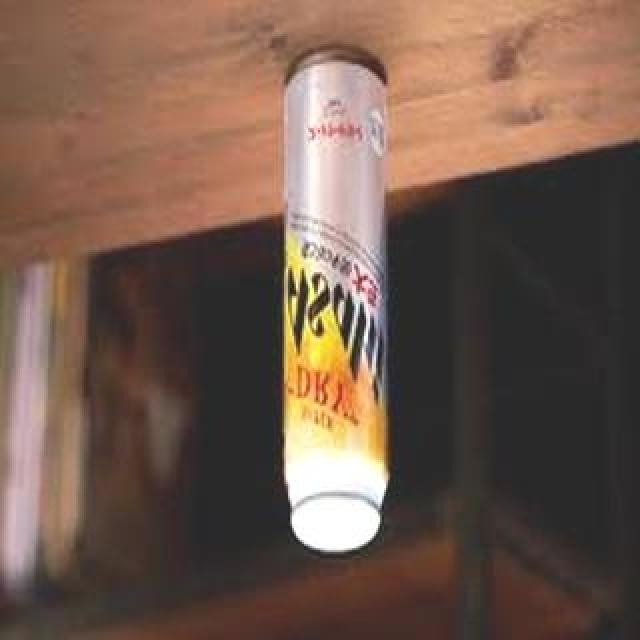Can: (277, 49, 405, 555)
